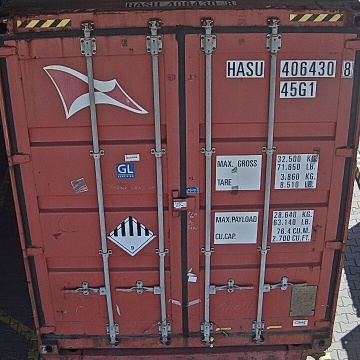serial_id: (226, 61, 353, 77)
